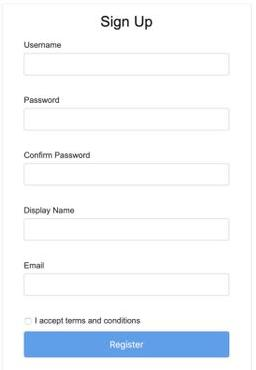button: (23, 330, 231, 358)
checkbox: (23, 317, 32, 326)
checkbox_with_label: (21, 316, 140, 327)
field: (21, 160, 230, 186), (22, 106, 230, 132), (22, 216, 230, 242), (21, 52, 231, 76), (21, 272, 230, 296)
field_with_label: (20, 96, 232, 133), (21, 206, 232, 243), (19, 41, 233, 77), (19, 151, 232, 187), (19, 261, 232, 297)
